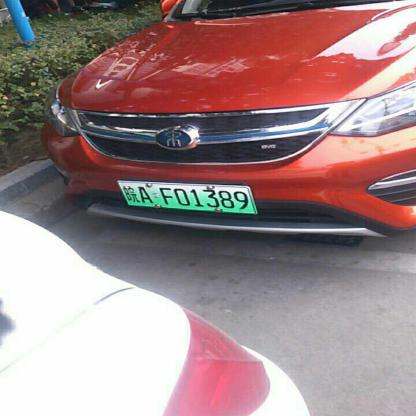lp: (118, 181, 256, 214)
